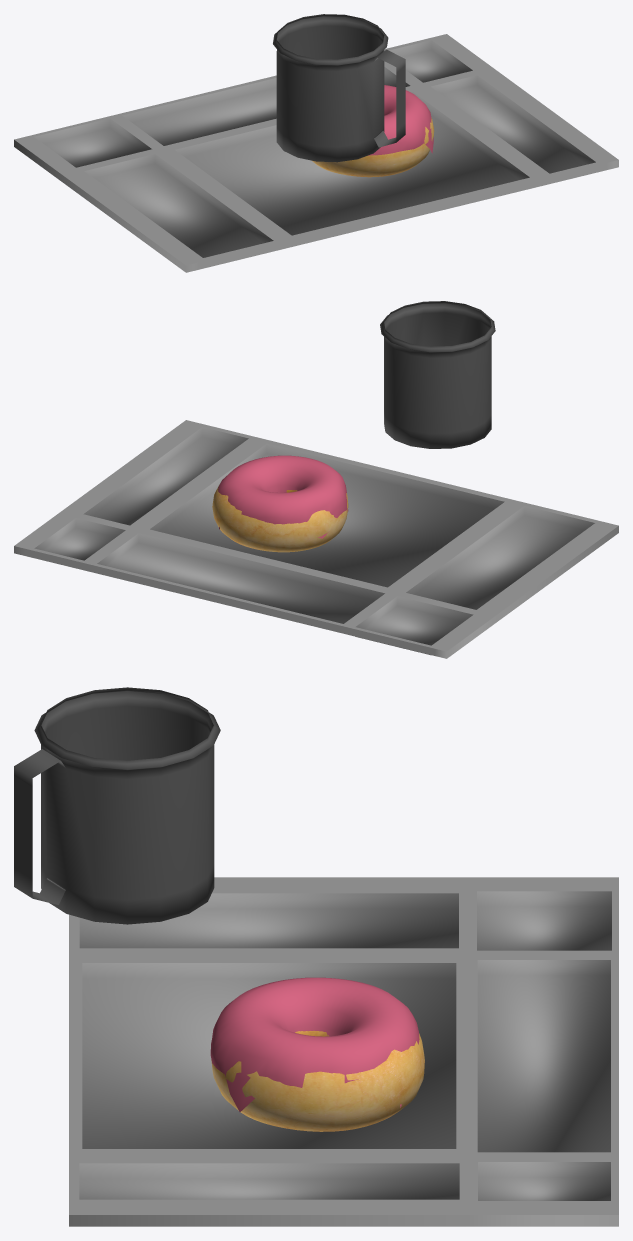
Rendered from donut.glb.
3 views of the same model, one above another, from view 1: azimuth 30°, elevation 25°; view 2: azimuth 150°, elevation 25°; view 3: azimuth 270°, elevation 25° (orthographic). The views are drawn at different scales.
Visible parts, largest first — view 1: Plane, Mug, Icing, Donut; view 2: Plane, Mug, Icing, Donut; view 3: Plane, Mug, Icing, Donut.
Boxes of the visible parts, x1=… form: Plane: x1=14, y1=34, x2=618, y2=272; Mug: x1=273, y1=14, x2=405, y2=162; Icing: x1=368, y1=85, x2=433, y2=155; Donut: x1=312, y1=117, x2=434, y2=177; Plane: x1=14, y1=420, x2=618, y2=658; Mug: x1=380, y1=301, x2=495, y2=448; Icing: x1=218, y1=455, x2=348, y2=538; Donut: x1=212, y1=484, x2=348, y2=552; Plane: x1=69, y1=877, x2=618, y2=1226; Mug: x1=14, y1=687, x2=220, y2=924; Icing: x1=210, y1=977, x2=419, y2=1111; Donut: x1=211, y1=1031, x2=424, y2=1131.
Bounding box in the file's own units: 1.1 × 0.4566 × 0.8367.
Materials: 4 (1 with a texture image).
